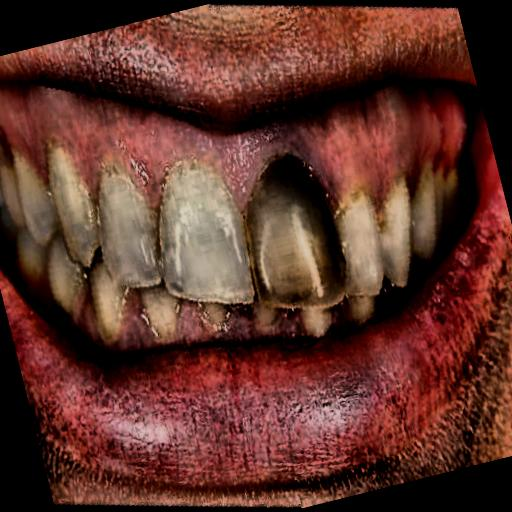Gingivitis: (123, 4, 484, 240)
